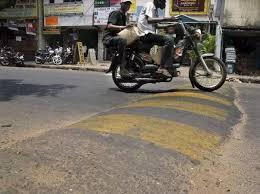speedbreaker: (2, 85, 236, 194)
